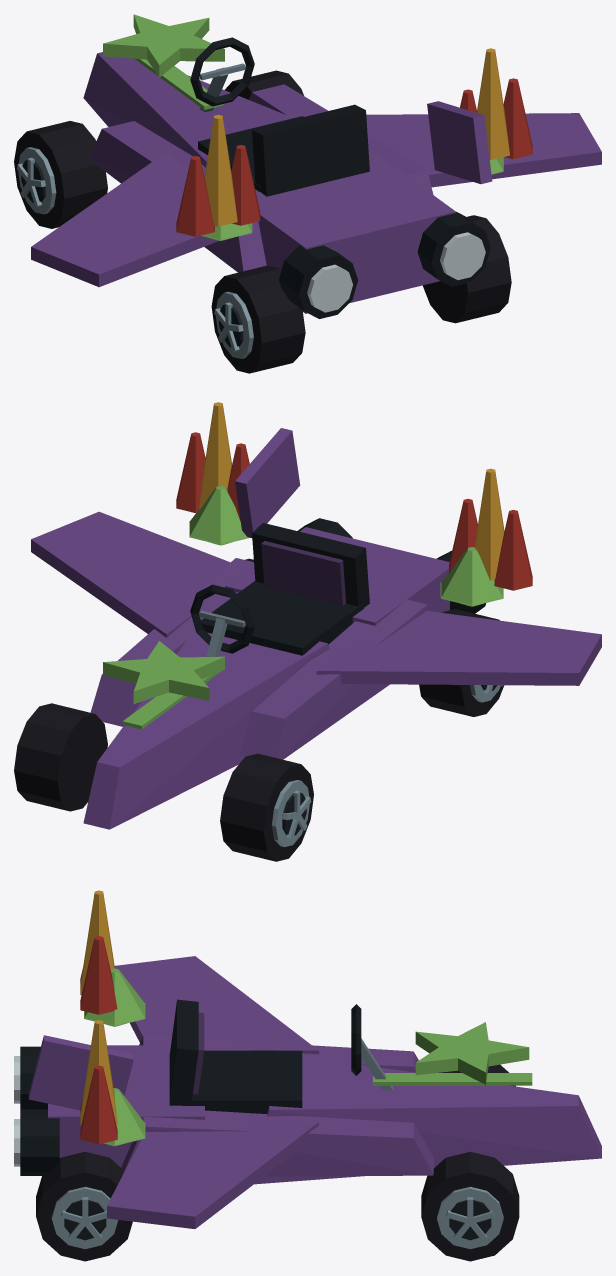
The model's file is kart.glb.
3 renders of one model, top to bottom at view 1: azimuth 30°, elevation 25°; view 2: azimuth 150°, elevation 25°; view 3: azimuth 270°, elevation 25°, orthographic. The views are drawn at different scales.
Visible parts, largest first — view 1: identity-starfighter-starfighter-flight-planform, identity-starfighter-driver-cockpit, identity-starfighter-motif-fire, wheel-rear-left, wheel-front-left, wheel-rear-right, identity-starfighter-motif-star, wheel-front-right, identity-starfighter-motif-gems; view 2: identity-starfighter-starfighter-flight-planform, identity-starfighter-driver-cockpit, identity-starfighter-motif-fire, wheel-front-left, wheel-front-right, identity-starfighter-motif-gems, identity-starfighter-motif-star, wheel-rear-left; view 3: identity-starfighter-starfighter-flight-planform, identity-starfighter-driver-cockpit, wheel-front-right, wheel-rear-right, identity-starfighter-motif-fire, identity-starfighter-motif-star, identity-starfighter-motif-gems.
Boxes of the visible parts, x1,y1,x2,y2 form: identity-starfighter-starfighter-flight-planform: (31,52,601,318); identity-starfighter-driver-cockpit: (190,37,369,196); identity-starfighter-motif-fire: (176,48,532,236); wheel-rear-left: (211,265,305,373); wheel-front-left: (14,121,107,228); wheel-rear-right: (422,215,511,323); identity-starfighter-motif-star: (103,14,224,77); wheel-front-right: (225,70,303,99); identity-starfighter-motif-gems: (201,157,503,240); identity-starfighter-starfighter-flight-planform: (31,428,601,829); identity-starfighter-driver-cockpit: (190,523,369,683); identity-starfighter-motif-fire: (176,402,532,590); wheel-front-left: (220,753,313,861); wheel-front-right: (14,703,107,811); identity-starfighter-motif-gems: (189,486,503,606); identity-starfighter-motif-star: (103,641,224,703); wheel-rear-left: (419,609,504,716); identity-starfighter-starfighter-flight-planform: (14,956,601,1228); identity-starfighter-driver-cockpit: (169,999,393,1113); wheel-front-right: (421,1151,519,1261); wheel-rear-right: (36,1151,132,1261); identity-starfighter-motif-fire: (80,890,117,1144); identity-starfighter-motif-star: (415,1022,529,1084); identity-starfighter-motif-gems: (84,968,145,1146).
Bounding box in the file's own units: 3.14 × 1.38 × 2.99.
